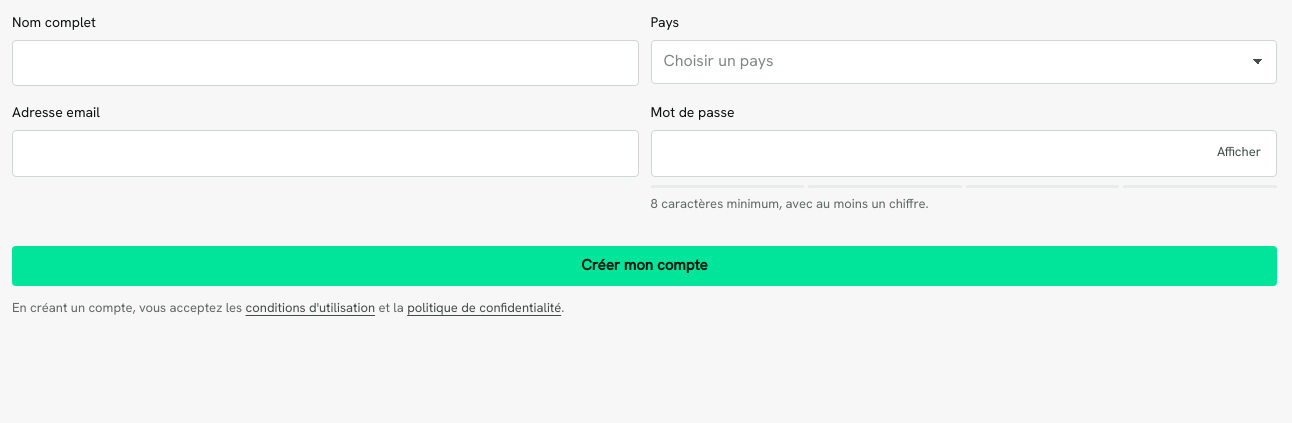
Scenario: RegisterForm › affiche les erreurs de champ renvoyées par le serveur
Type "Koffi Mensah" into the field labelled "Nom complet".
click(325, 63); type("Koffi Mensah")  # box left=12, top=40, right=638, bottom=86
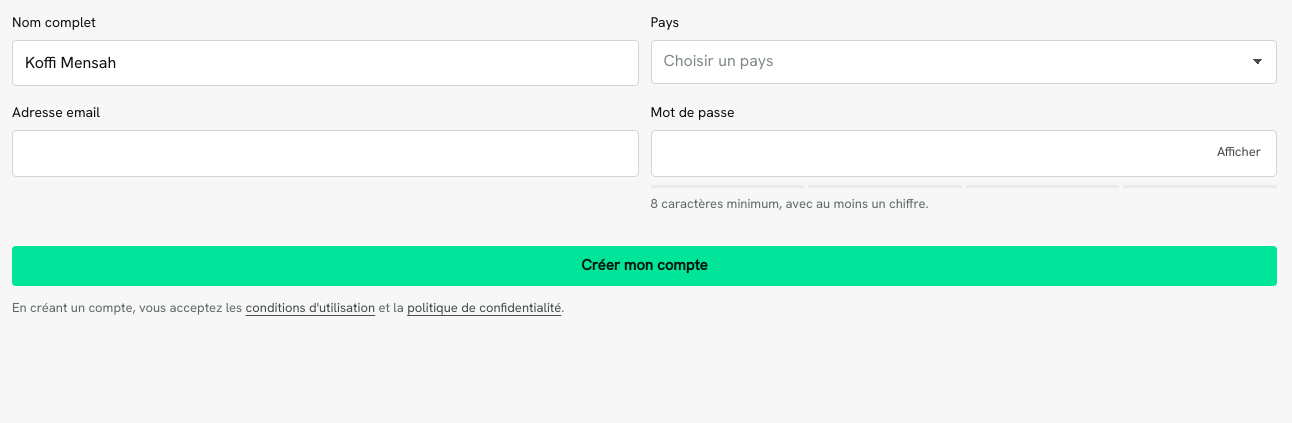
Type "koffi.mensah@example.com" into the field labelled "Adresse email".
click(325, 154); type("koffi.mensah@example.com")  # box left=12, top=130, right=638, bottom=177
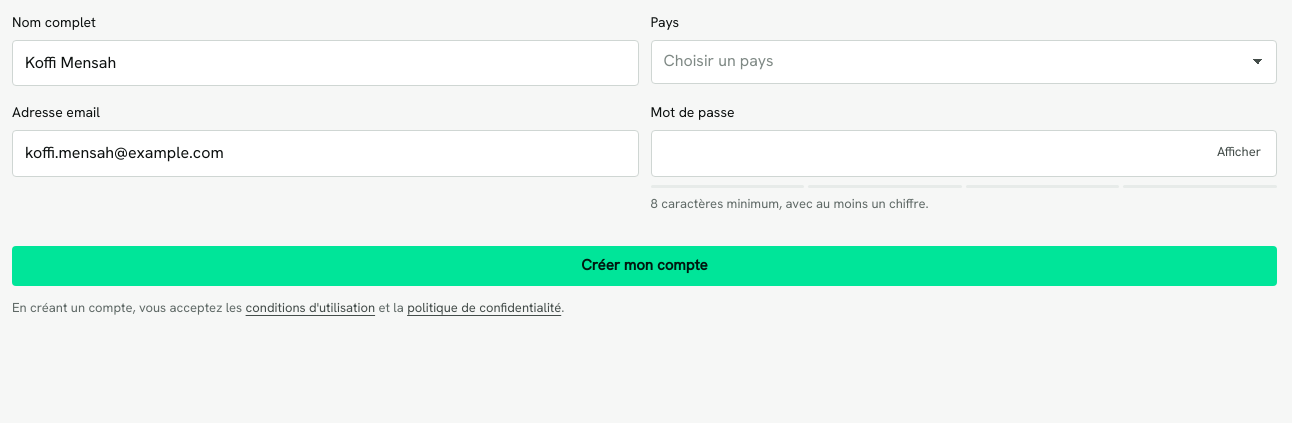
Click the dropdown labelled "Choisir un pays".
click(718, 61)  # box left=650, top=40, right=1277, bottom=84
(page scrolled)
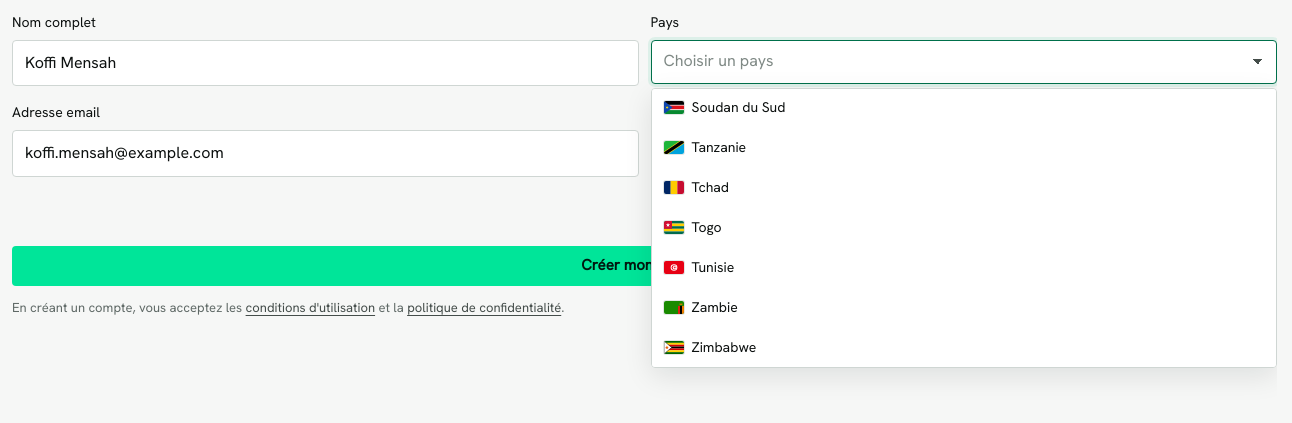
Click the option "Togo".
click(693, 227)  # box left=664, top=218, right=722, bottom=236
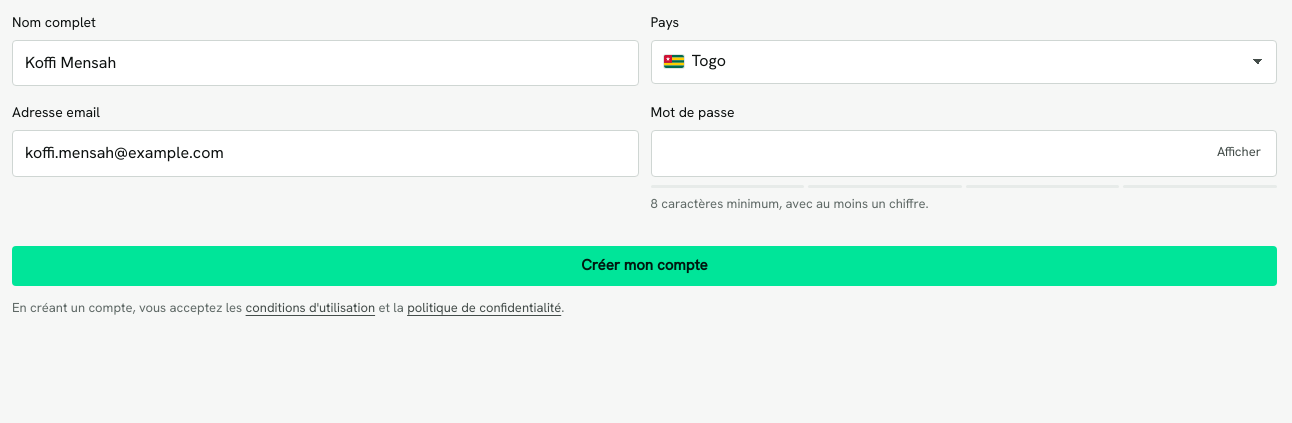
Type "lome2026" into the password field labelled "Mot de passe".
click(964, 154); type("lome2026")  # box left=650, top=130, right=1277, bottom=177
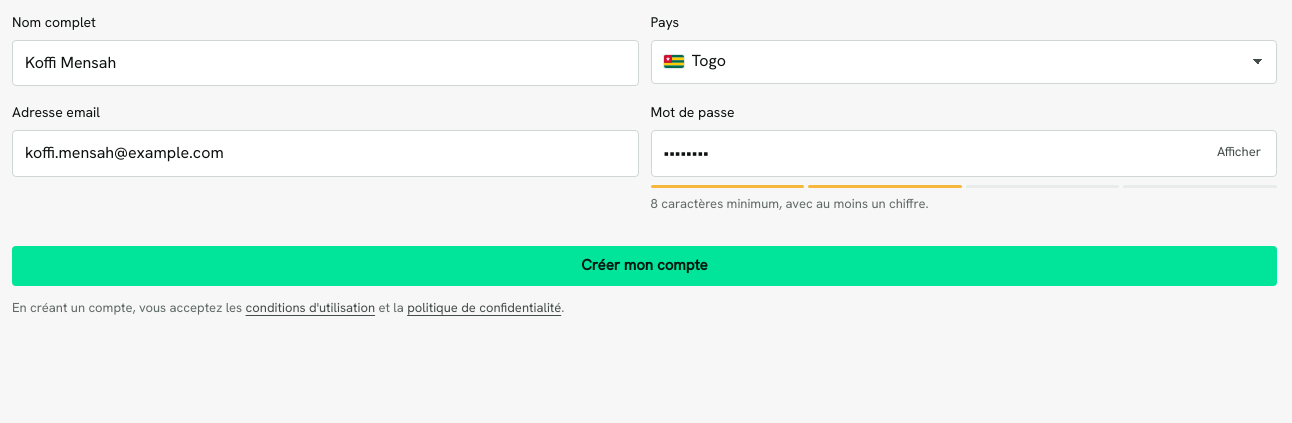
Click the button "Créer mon compte".
click(644, 266)  # box left=12, top=246, right=1277, bottom=286
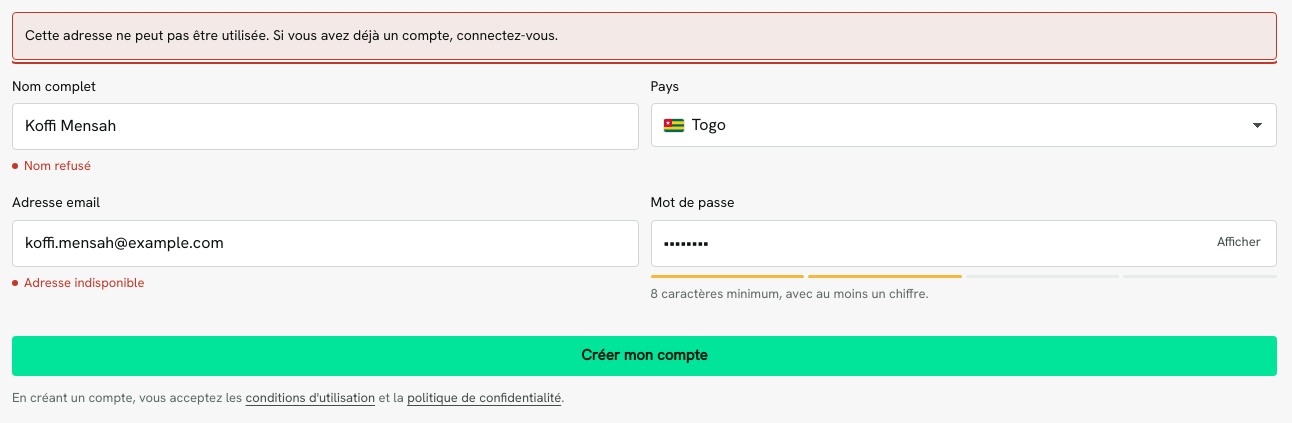
Result: the message is shown at left=12, top=12, right=1277, bottom=60
Result: the message shows "ne peut pas être utilisée" at left=25, top=26, right=558, bottom=44
Result: the text "Adresse indisponible" is shown at left=24, top=274, right=144, bottom=291
